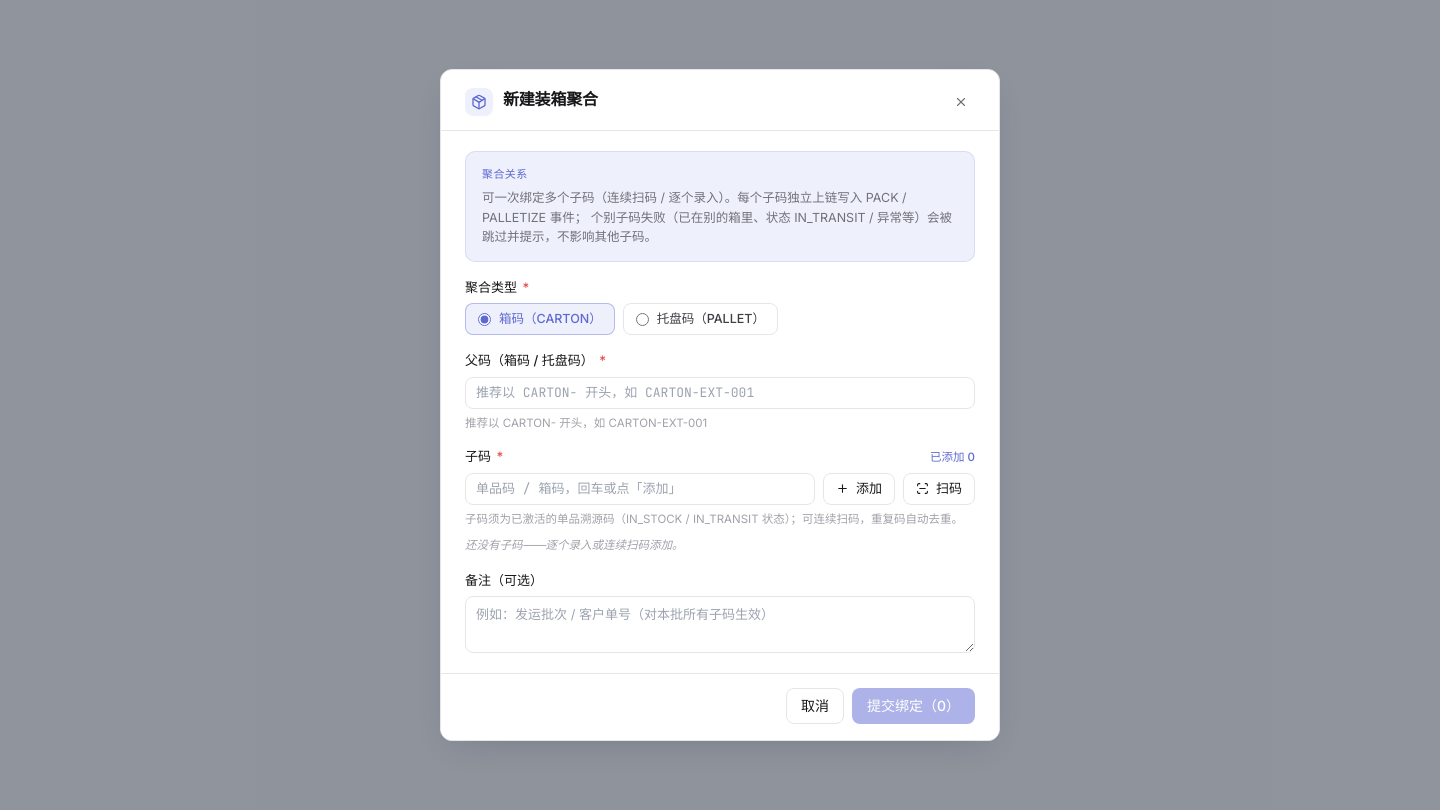
Scenario: AggregationBindDialog contract › blocks submit until at least one child code is added
Expected: the button with test id "agg-dialog-submit" is disabled, [852, 688, 975, 724]
Type "CARTON-001" into the field with test id "agg-dialog-parent-input" at x=720, y=392, box [465, 376, 975, 408]
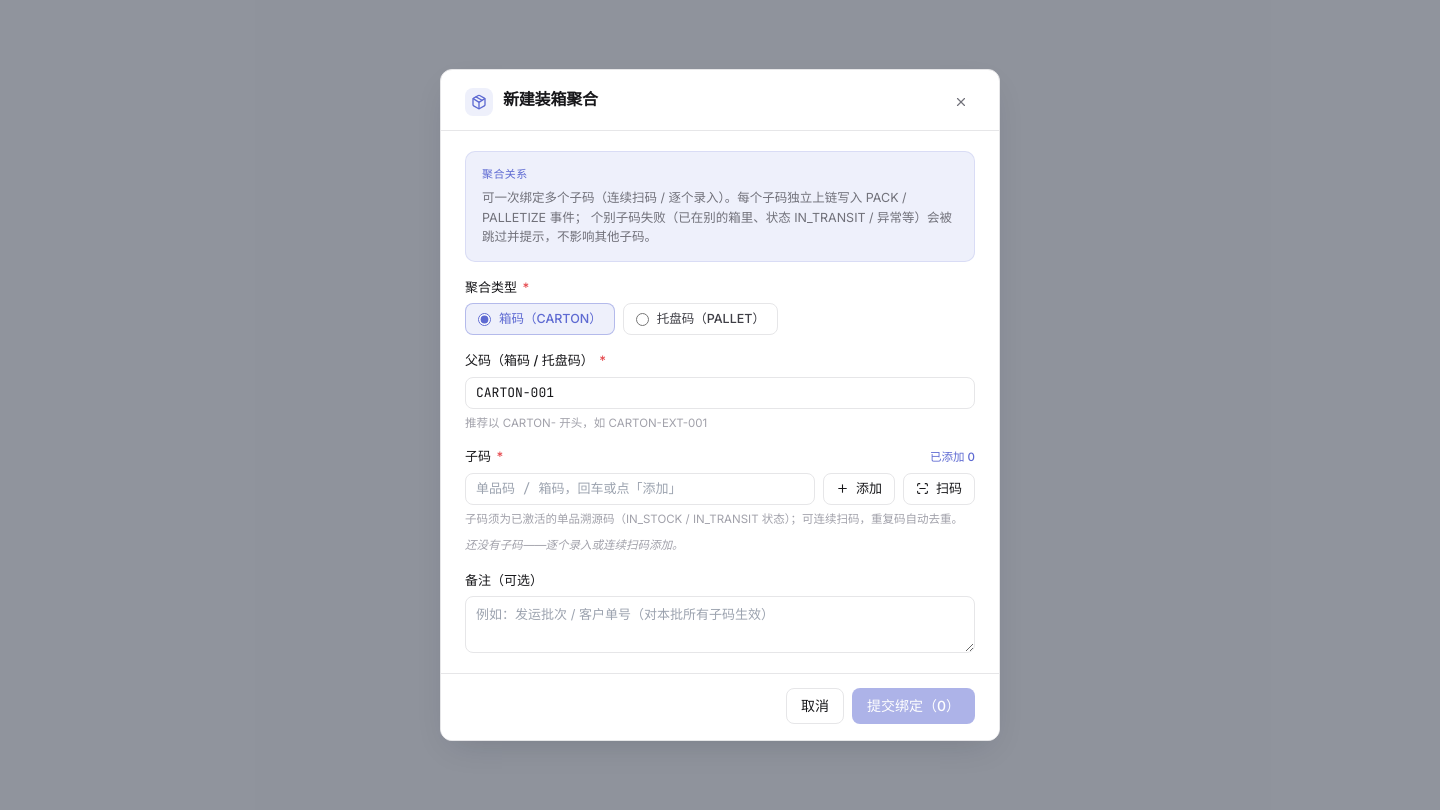
Type "TC-001" into the field with test id "agg-dialog-child-input" at x=640, y=489, box [465, 473, 815, 505]
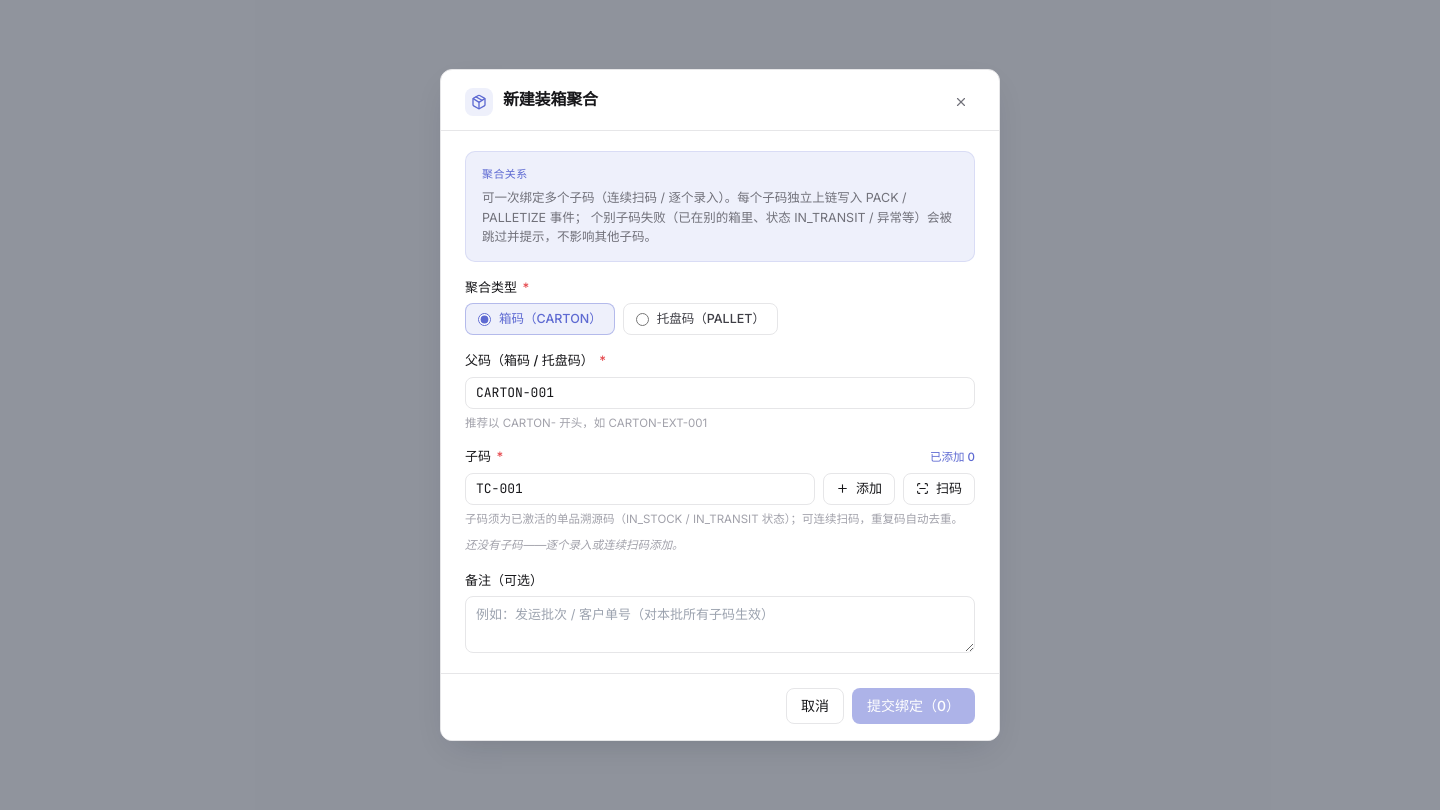
Click the button with test id "agg-dialog-add-child" at x=859, y=489, box [823, 473, 895, 505]
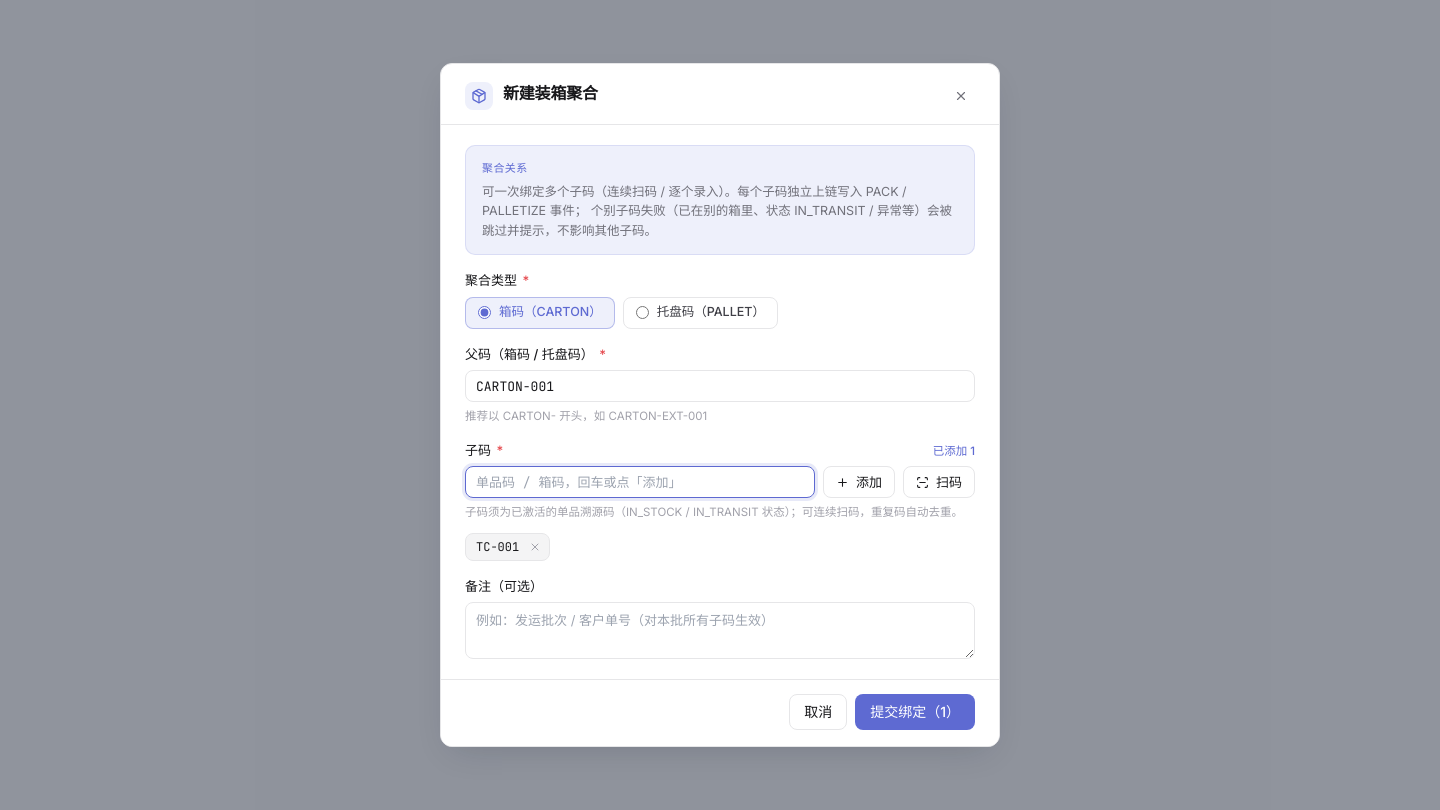
Result: the button with test id "agg-dialog-submit" is enabled at [855, 694, 975, 730]
